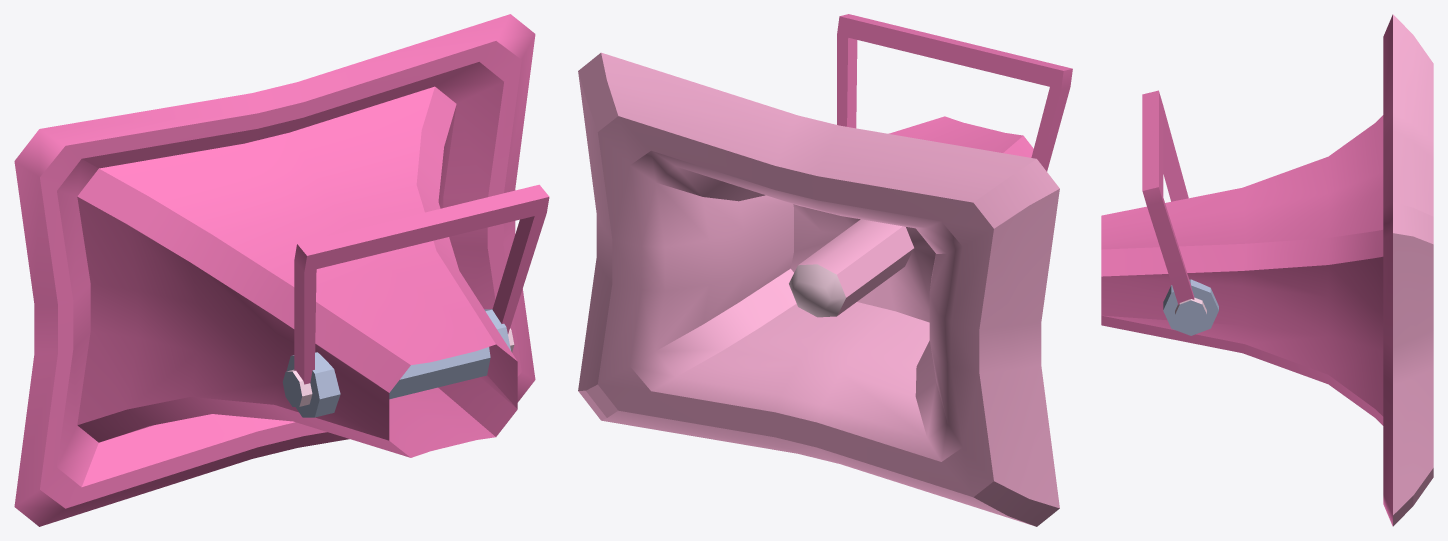
File: Loudspeaker_Trial_01.fbx
3 renders of one model, left to right at view 1: azimuth 30°, elevation 25°; view 2: azimuth 150°, elevation 25°; view 3: azimuth 270°, elevation 25°, orthographic. The views are drawn at different scales.
Parts seen in each view (by area): view 1: pCube1, pCube2, pCylinder5; view 2: pCube1, pCube2; view 3: pCube1, pCube2, pCylinder5.
Part boxes in pixels (x1,y1,x2,y2): pCube1: [14, 14, 535, 526]; pCube2: [294, 184, 549, 384]; pCylinder5: [282, 309, 514, 417]; pCube1: [578, 52, 1059, 526]; pCube2: [837, 14, 1072, 171]; pCube1: [1101, 14, 1433, 526]; pCube2: [1142, 90, 1194, 304]; pCylinder5: [1163, 279, 1218, 335].
Size of the model in its own units: 66.96 by 48.88 by 45.32.
Materials: 1 (1 with a texture image).
